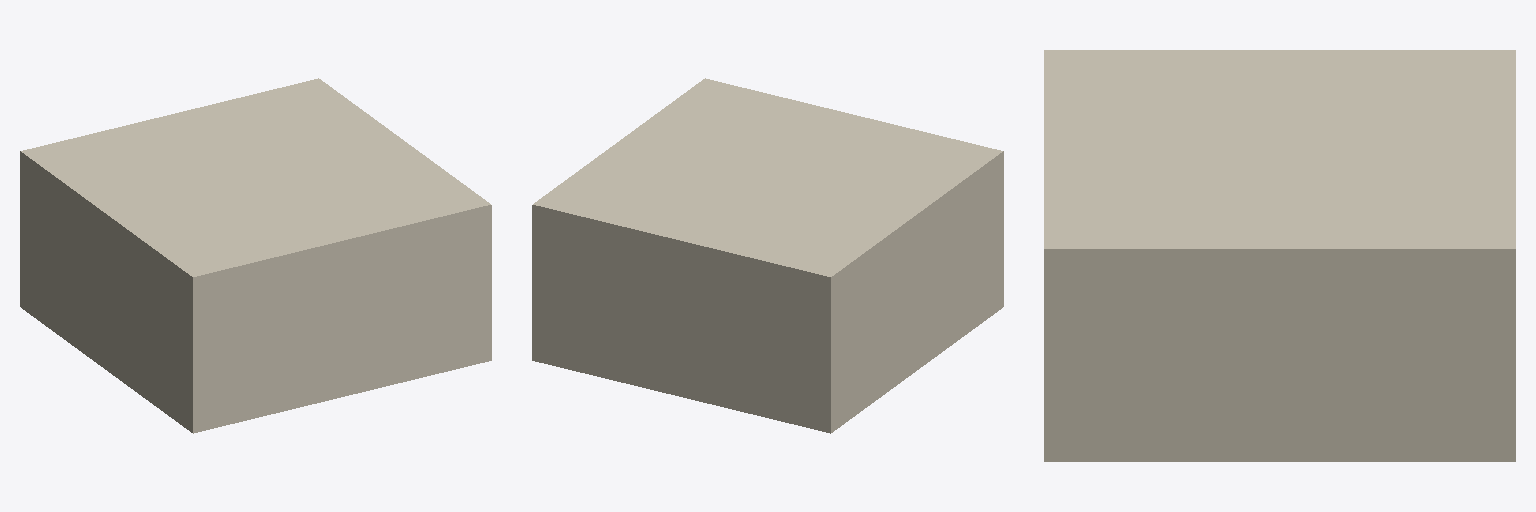
robot.urdf — paper_box:
<robot
  name="paper_box">
  <link
    name="paper_box">
    <inertial>
      <origin
        xyz="3.5779E-18 1.4456E-19 0"
        rpy="0 0 0" />
      <mass
        value="0.624" />
      <inertia
        ixx="0.0026"
        ixy="9.2461E-20"
        ixz="-4.3299E-20"
        iyy="0.00416"
        iyz="5.6379E-20"
        izz="0.0026" />
    </inertial>
    <visual>
      <origin
        xyz="0 0 0"
        rpy="0 0 0" />
      <geometry>
        <mesh
          filename="package://paper_box/meshes/paper_box.STL" />
      </geometry>
      <material
        name="">
        <color
          rgba="0.84314 0.81569 0.75294 1" />
      </material>
    </visual>
    <collision>
      <origin
        xyz="0 0 0"
        rpy="0 0 0" />
      <geometry>
        <mesh
          filename="package://paper_box/meshes/paper_box.STL" />
      </geometry>
    </collision>
  </link>

<gazebo reference="paper_box">
 		<kp>1000000.0</kp>
 		<kd>100.0</kd>
 		<material>Gazebo/Black</material>
 	</gazebo>
</robot>

--- Facts derived from the render (not from the file) ---
Views: 3 orthographic renders of the robot side by side, from view 1: azimuth 30°, elevation 25°; view 2: azimuth 150°, elevation 25°; view 3: azimuth 270°, elevation 25°.
Model paper_box with 1 links and 0 joints (none), rooted at paper_box, posed every joint at zero.
Visible links, largest first — view 1: paper_box; view 2: paper_box; view 3: paper_box.
Link boxes in pixels (left/top/right/bottom): paper_box: left=20, top=78, right=491, bottom=433; paper_box: left=532, top=78, right=1003, bottom=433; paper_box: left=1044, top=50, right=1515, bottom=461.
Bounding box of the posed robot: 0.2 × 0.2 × 0.1 m (x, y, z).
1 mesh visuals loaded from 1 distinct referenced files (1 binary STL).